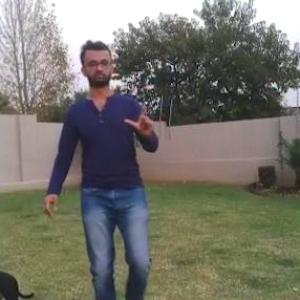land_hand: (122, 94, 156, 145)
